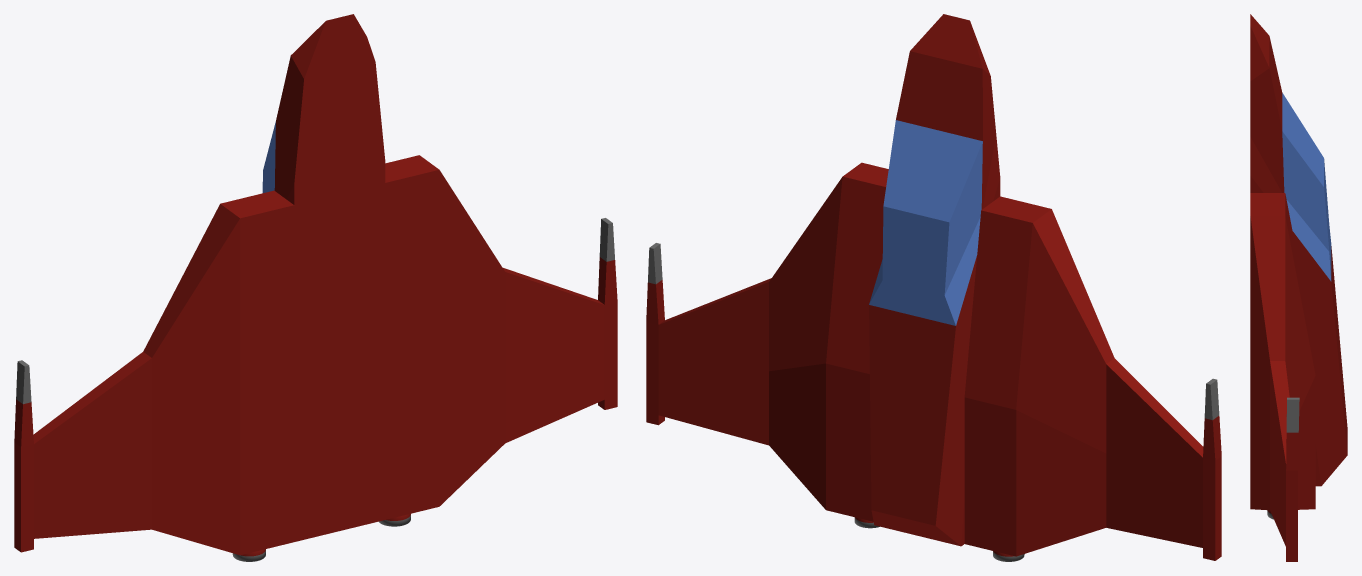
File: Nave 01.fbx
The picture shows the model from 3 angles, left to right: view 1: azimuth 30°, elevation 25°; view 2: azimuth 150°, elevation 25°; view 3: azimuth 270°, elevation 25°; orthographic projection. The views are drawn at different scales.
Visible parts, largest first — view 1: Cube.005; view 2: Cube.005; view 3: Cube.005.
Part boxes in pixels (box(x1,y1,x2,y2)): Cube.005: box(14, 14, 617, 561); Cube.005: box(646, 14, 1221, 561); Cube.005: box(1250, 14, 1347, 561).
Bounding box in the file's own units: 432 × 369 × 69.9.
